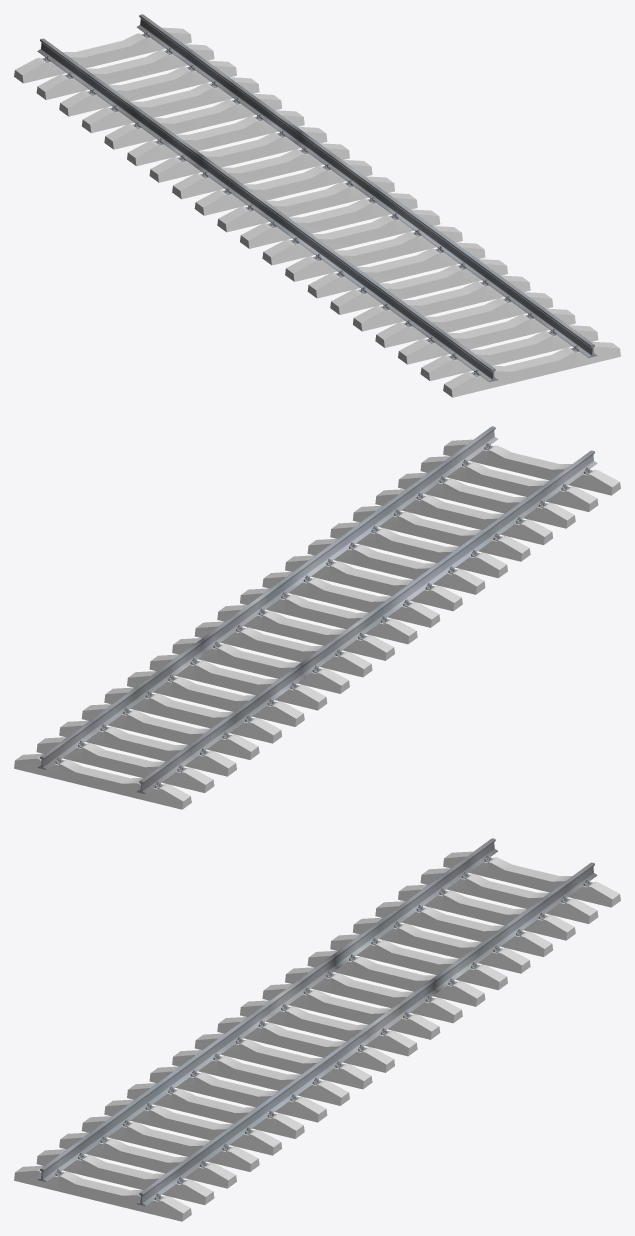
File: Railway.fbx
The picture shows the model from 3 angles, top to bottom: view 1: azimuth 30°, elevation 25°; view 2: azimuth 150°, elevation 25°; view 3: azimuth 330°, elevation 25°; orthographic projection.
Visible parts, largest first — view 1: Railway; view 2: Railway; view 3: Railway.
Boxes of the visible parts, x1,y1,x2,y2 form: Railway: (14, 14, 620, 397); Railway: (14, 426, 620, 809); Railway: (14, 838, 620, 1221).
Bounding box in the file's own units: 269 × 37.74 × 1250.
